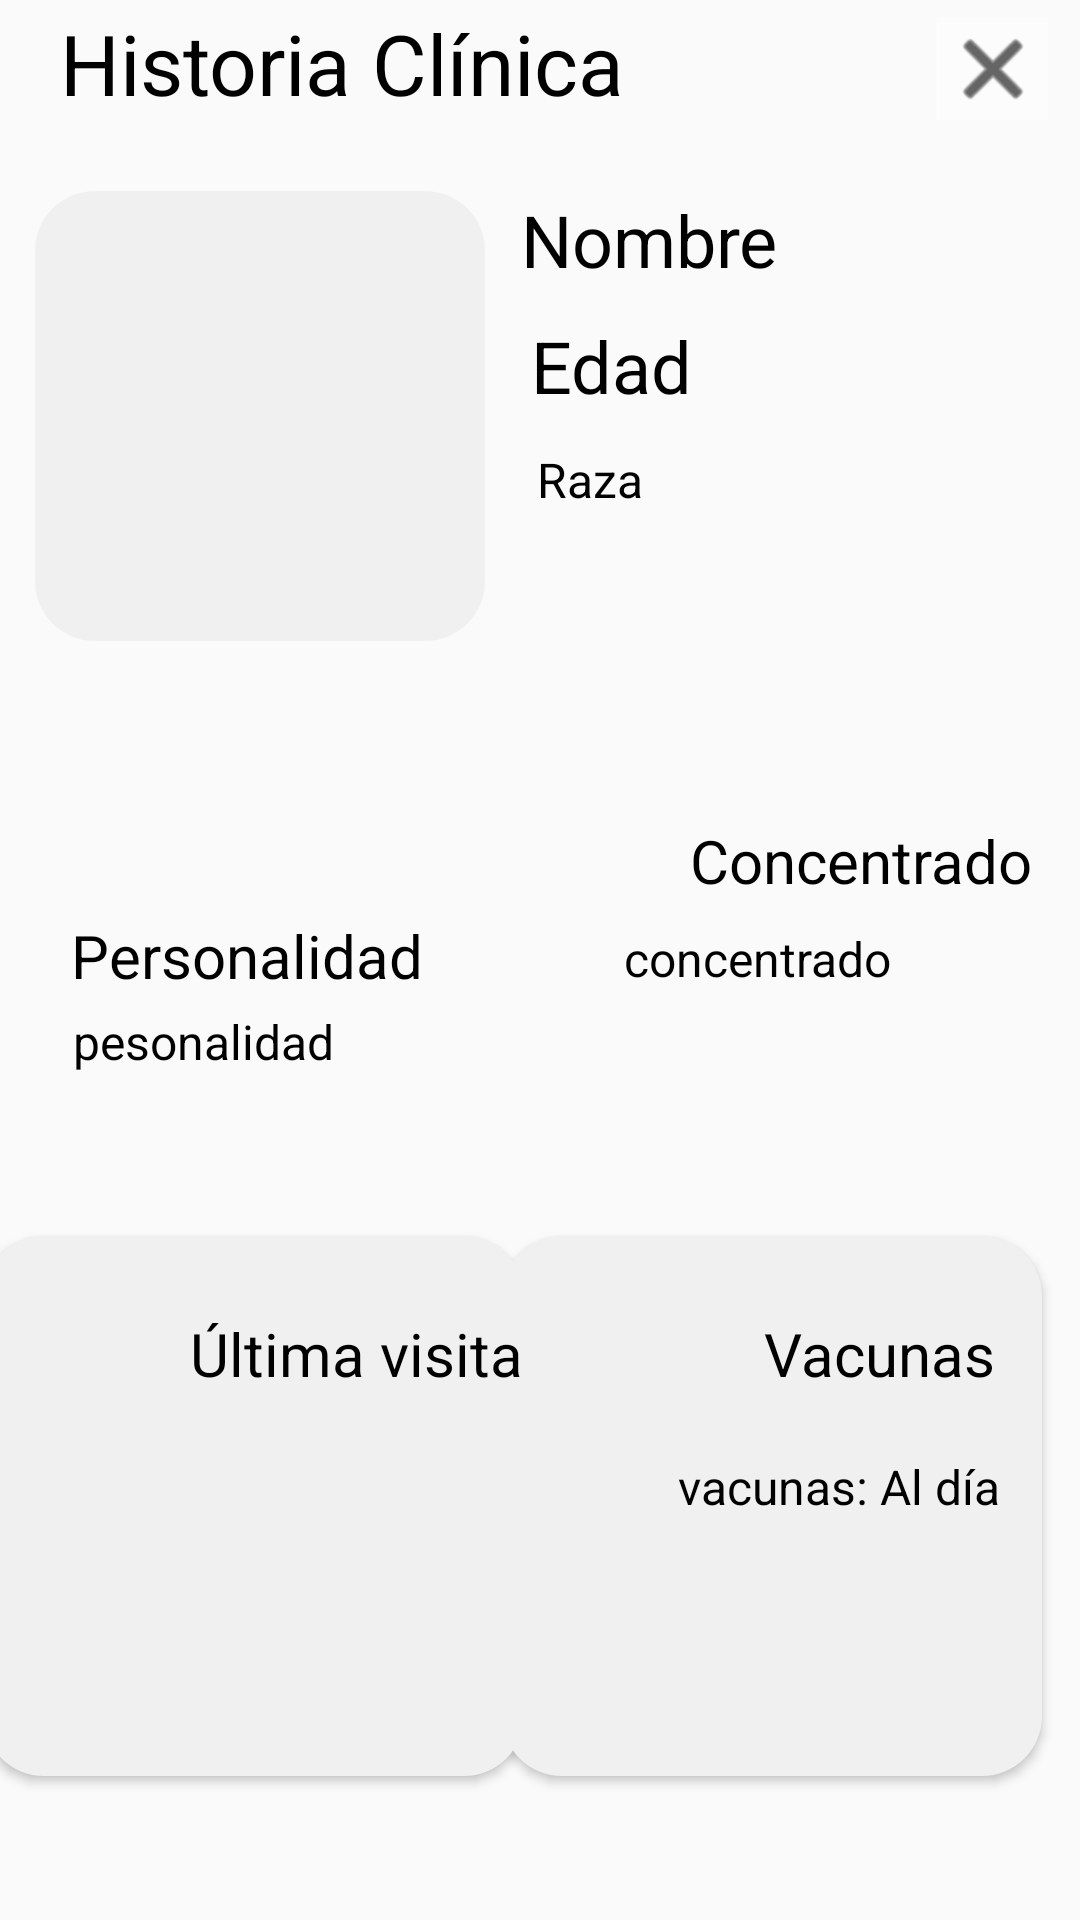

Icons on this 1080x1920 Android screen, each with its box as box=[x1, y1, x2, y2]:
close clear cancel: box=[963, 39, 1023, 99]
